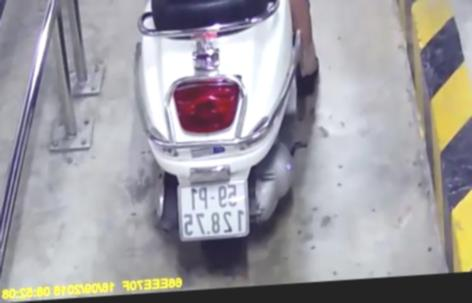License_Plate: (173, 177, 254, 247)
